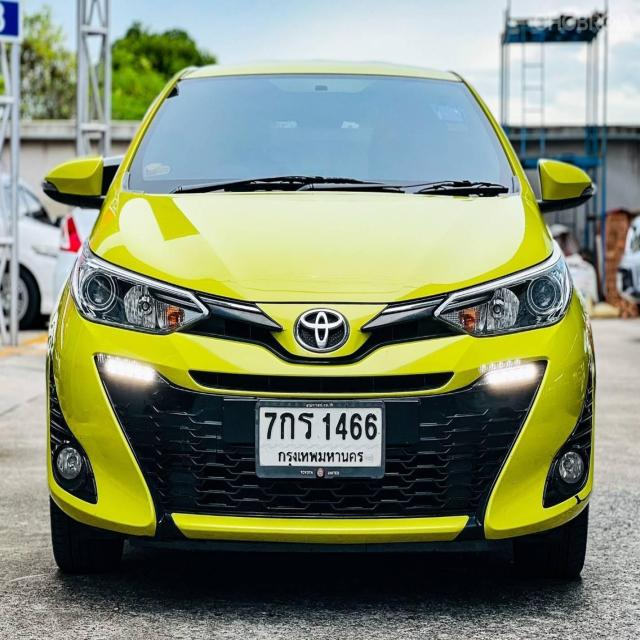license_plate: (254, 400, 387, 480)
